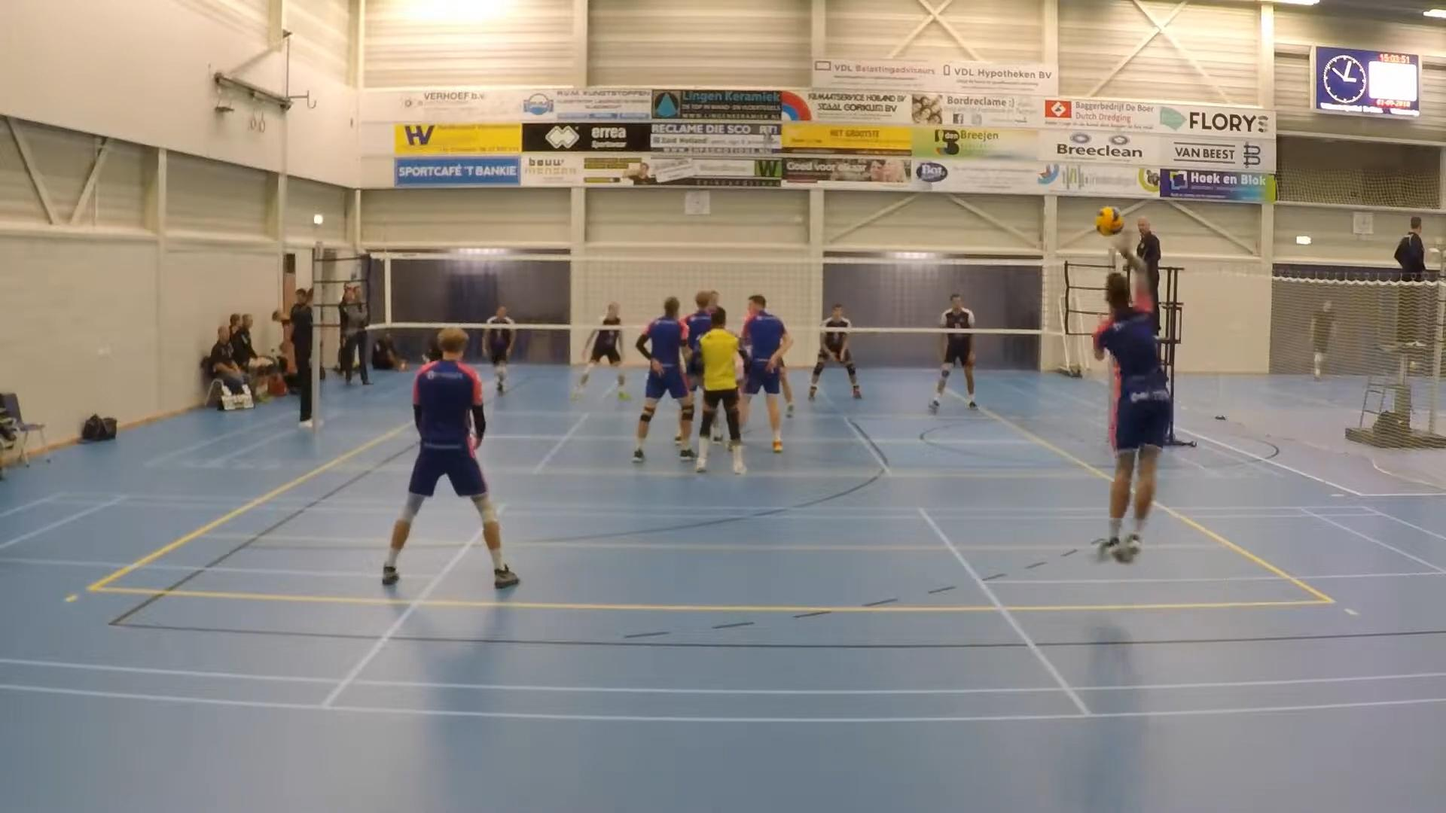battuta: (1057, 231, 1186, 568)
